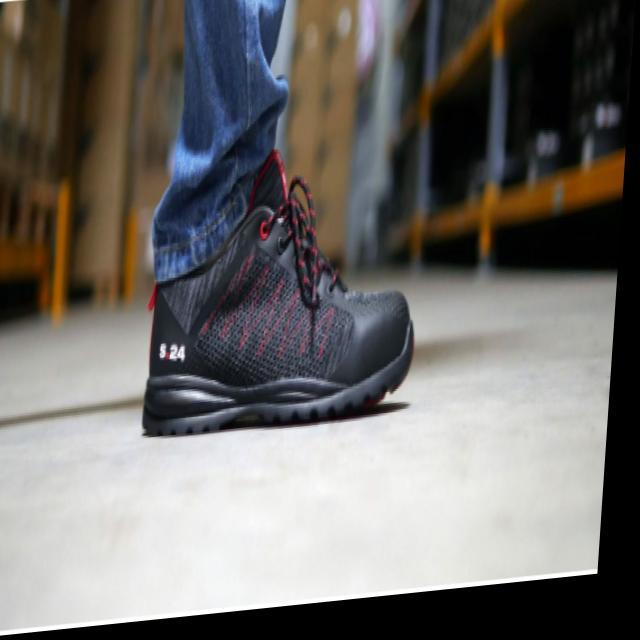boots: (133, 126, 436, 452)
